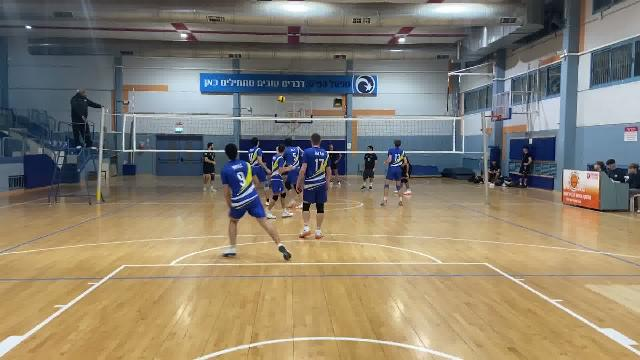ball: (277, 96, 287, 104)
